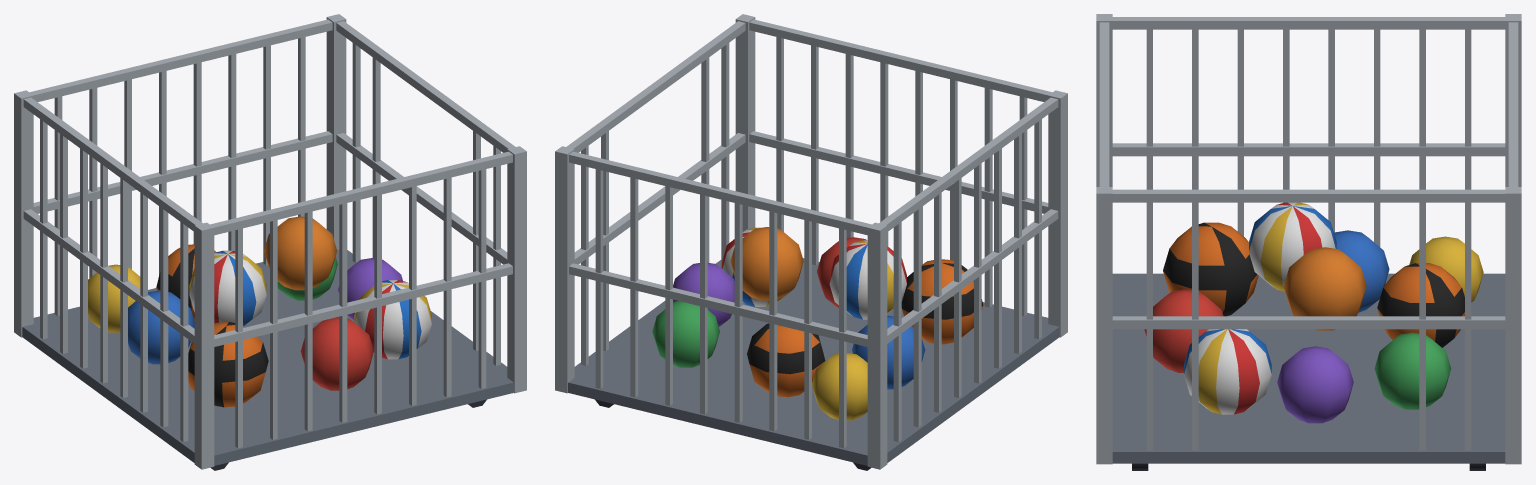
File: school-hide.glb
The picture shows the model from 3 angles, left to right: view 1: azimuth 30°, elevation 25°; view 2: azimuth 150°, elevation 25°; view 3: azimuth 270°, elevation 25°; orthographic projection. The views are drawn at different scales.
Parts seen in each view (by area): view 1: school-hide; view 2: school-hide; view 3: school-hide.
Part boxes in pixels (x1,y1,x2,y2): school-hide: (14,14,526,470); school-hide: (555,14,1067,470); school-hide: (1096,14,1521,470).
Size of the model in its own units: 1.31 by 0.9962 by 1.31.
